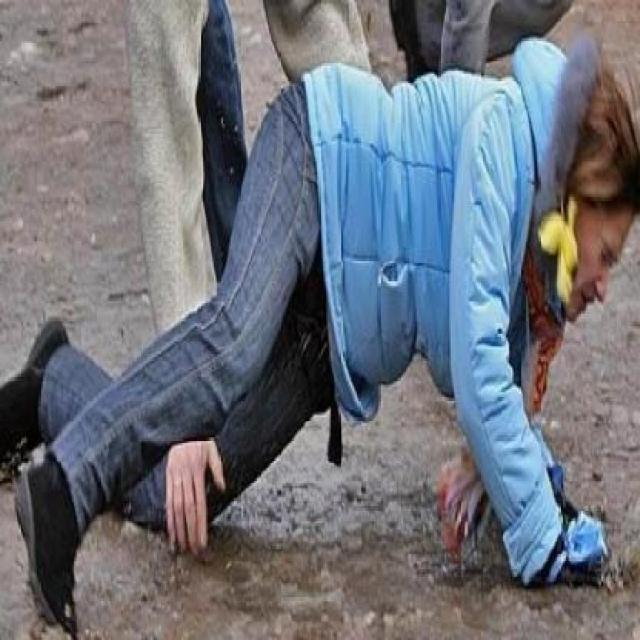fall: (4, 46, 639, 620)
